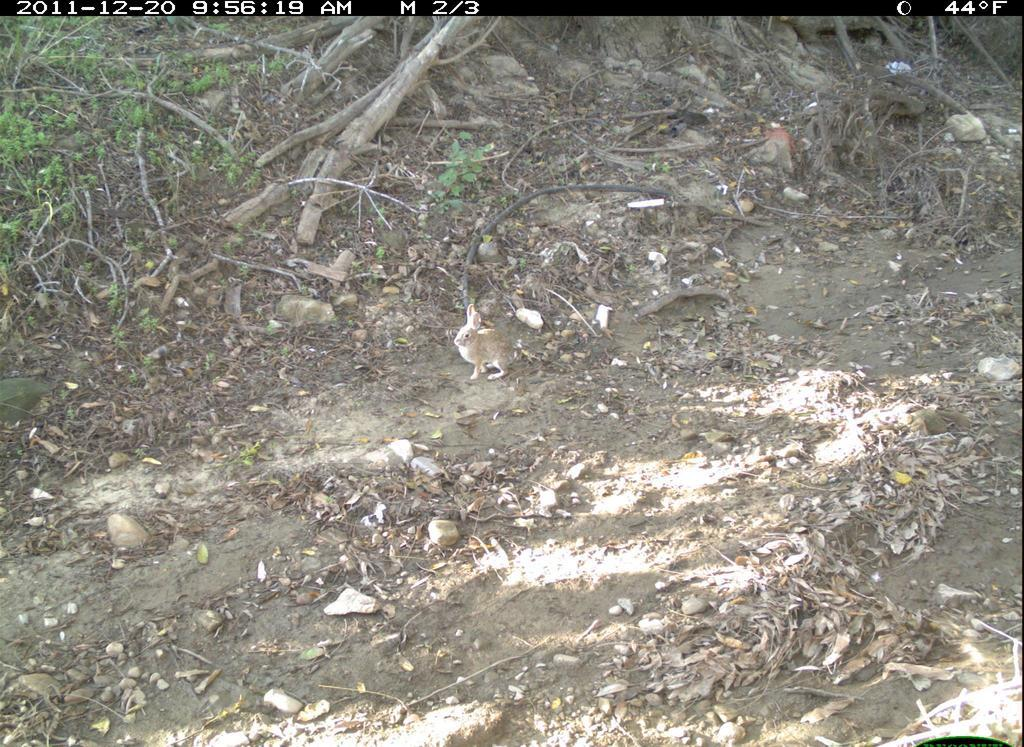rabbit: (449, 299, 530, 385)
